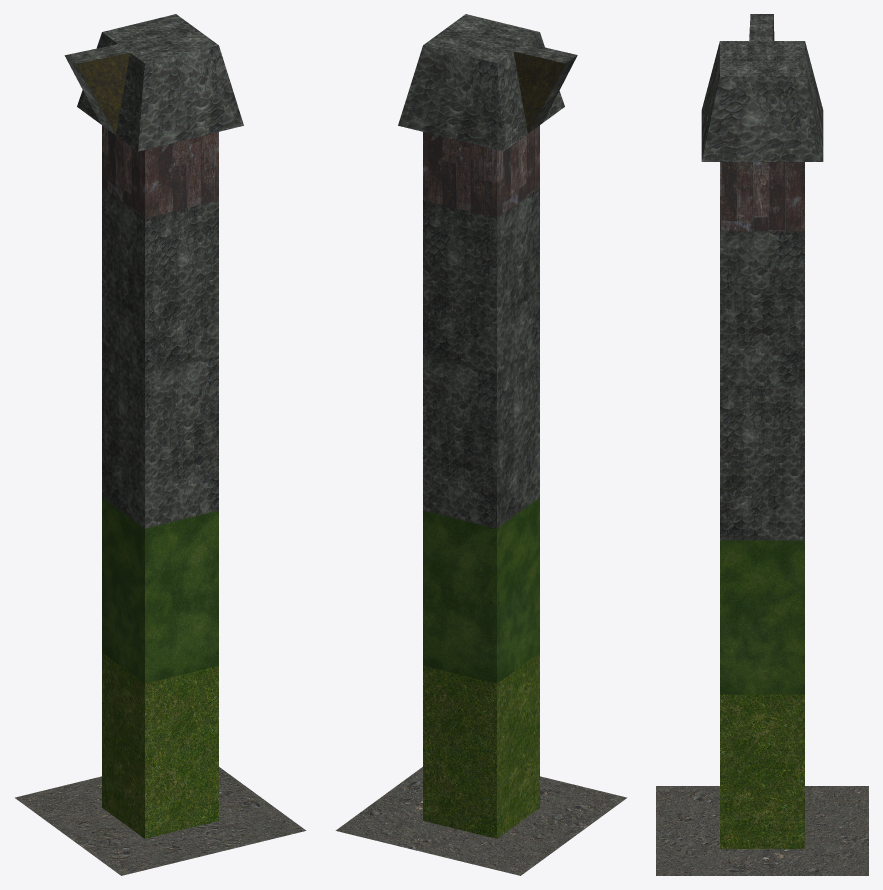
Rendered from predio_02.gltf.
3 renders of one model, left to right at view 1: azimuth 30°, elevation 25°; view 2: azimuth 150°, elevation 25°; view 3: azimuth 270°, elevation 25°, orthographic.
Visible parts, largest first — view 1: edificio_02_ponte, chao; view 2: edificio_02_ponte, chao; view 3: edificio_02_ponte, chao.
Part boxes in pixels (x1,y1,x2,y2): edificio_02_ponte: (64, 14, 243, 838); chao: (15, 767, 306, 875); edificio_02_ponte: (398, 14, 577, 838); chao: (335, 767, 626, 875); edificio_02_ponte: (701, 14, 823, 848); chao: (656, 786, 868, 875).
Bounding box in the file's own units: 50 × 200 × 50.
6 materials, 6 textured.
